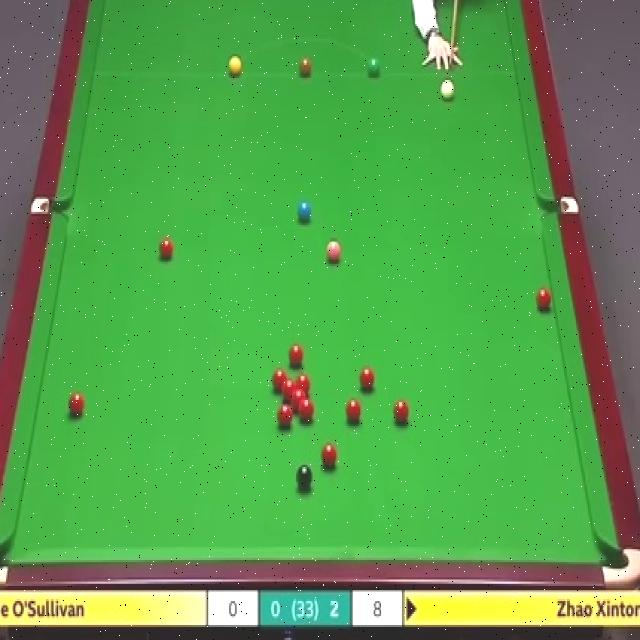black-ball: (295, 464, 314, 490)
blue-ball: (297, 199, 312, 226)
brown-ball: (298, 56, 312, 77)
green-ball: (367, 57, 381, 76)
pink-ball: (326, 238, 342, 264)
red-ball: (321, 442, 338, 472), (394, 398, 410, 429), (288, 342, 305, 370), (158, 236, 176, 262), (358, 366, 376, 392), (277, 402, 293, 430), (68, 391, 85, 416), (345, 398, 362, 423), (292, 374, 311, 396), (535, 286, 552, 310), (271, 369, 288, 392), (282, 382, 298, 404), (300, 400, 314, 424), (293, 392, 307, 412)
white-ball: (440, 79, 455, 100)
yellow-ball: (228, 56, 242, 77)
